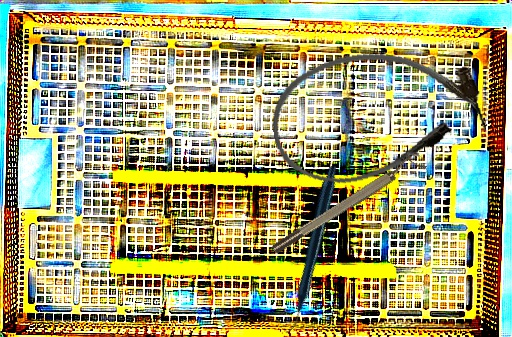Cannula: (262, 33, 492, 196)
Fixation Ring: (266, 147, 427, 257)
Handpiece: (221, 163, 399, 335)
